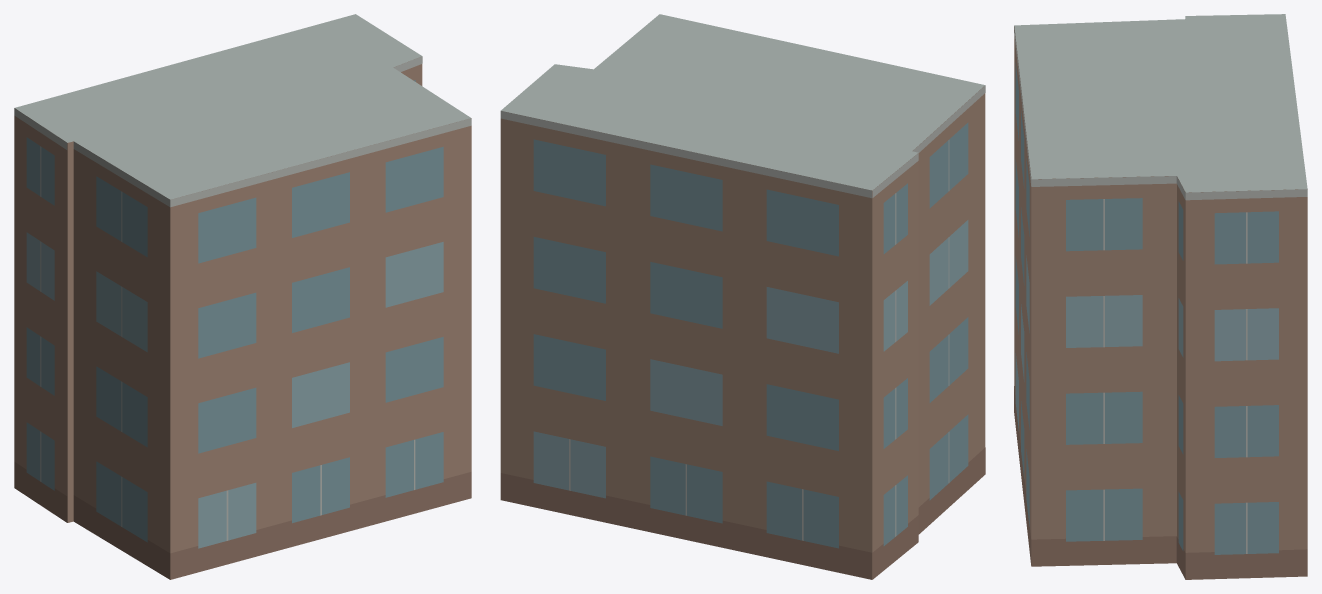
The model's file is survey-upis-32657576.glb.
The picture shows the model from 3 angles, left to right: view 1: azimuth 30°, elevation 25°; view 2: azimuth 150°, elevation 25°; view 3: azimuth 270°, elevation 25°; orthographic projection. The views are drawn at different scales.
Visible parts, largest first — view 1: survey-upis-32657576.tmp; view 2: survey-upis-32657576.tmp; view 3: survey-upis-32657576.tmp.
Boxes of the visible parts, x1,y1,x2,y2 form: survey-upis-32657576.tmp: [14, 14, 471, 579]; survey-upis-32657576.tmp: [500, 14, 985, 579]; survey-upis-32657576.tmp: [1014, 14, 1307, 579].
Size of the model in its own units: 12.07 by 12.2 by 8.38.
